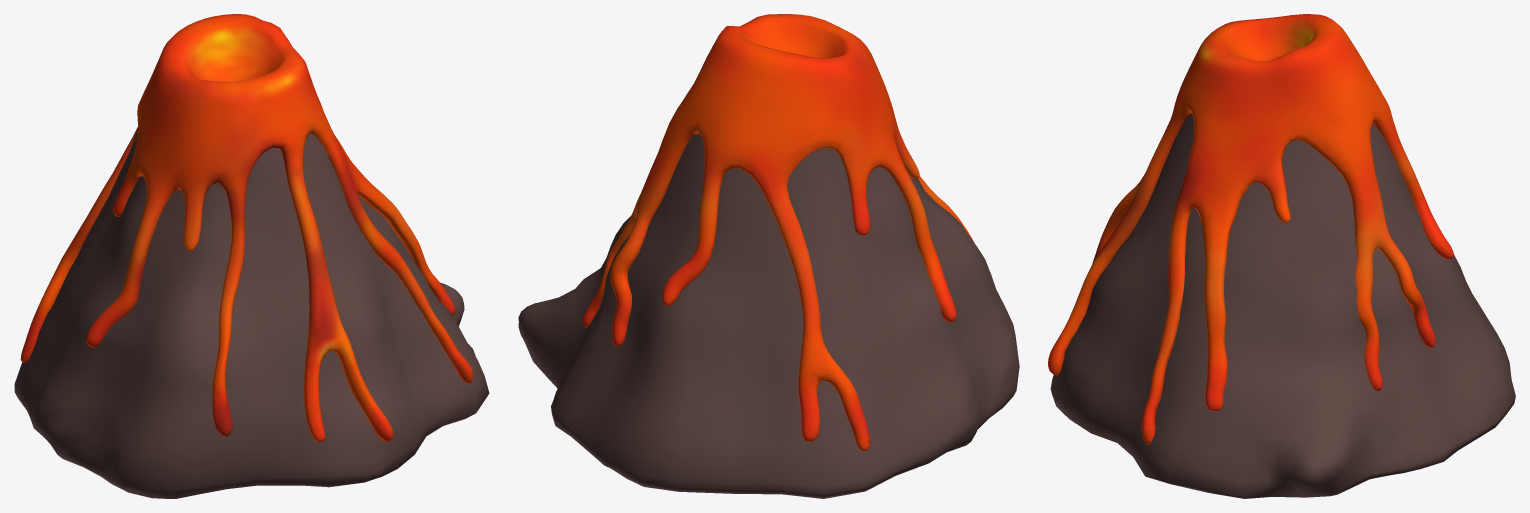
File: volcano.fbx
3 renders of one model, left to right at view 1: azimuth 30°, elevation 25°; view 2: azimuth 150°, elevation 25°; view 3: azimuth 270°, elevation 25°, orthographic.
Parts seen in each view (by area): view 1: node_id192_1; view 2: node_id192_1; view 3: node_id192_1.
Boxes of the visible parts, <box> form: node_id192_1: <box>14,14,489,498</box>; node_id192_1: <box>518,14,1019,498</box>; node_id192_1: <box>1048,14,1515,498</box>.
Bounding box in the file's own units: 415 × 343 × 393.
